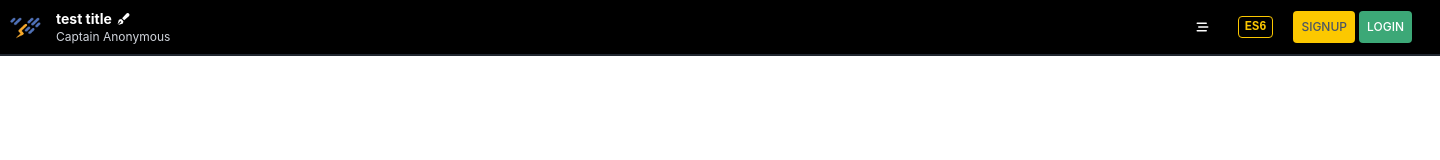
Test case: AppHeader Component › project title › edit empty value to display default title
Click the picture named "fa-pen-fancy". click: {"x": 123, "y": 19}
box: [116, 13, 131, 25]
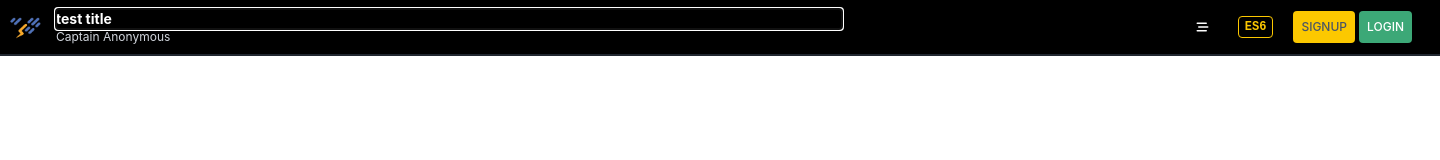
Clear the field. click: {"x": 449, "y": 19}
box: [56, 9, 842, 29]
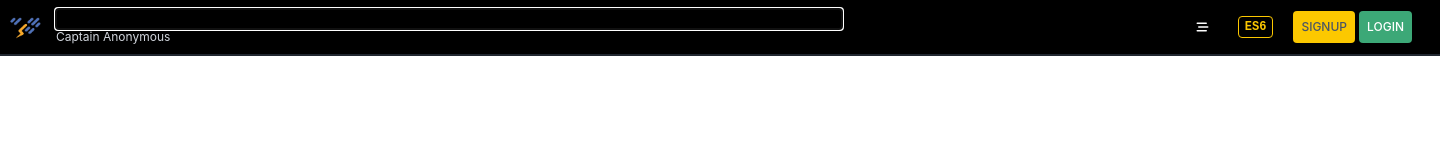
Leave the field, box [56, 9, 842, 29]
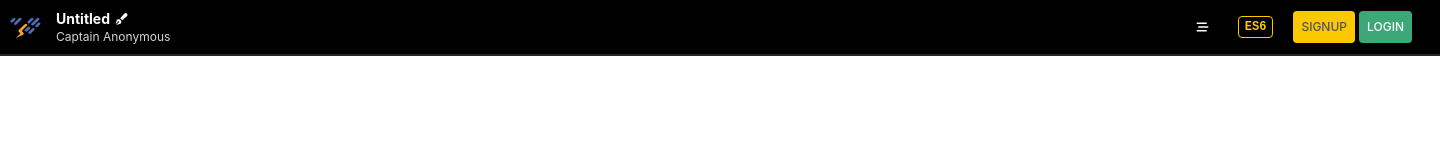
Expected: the text "Untitled" is shown, [56, 9, 110, 29]
